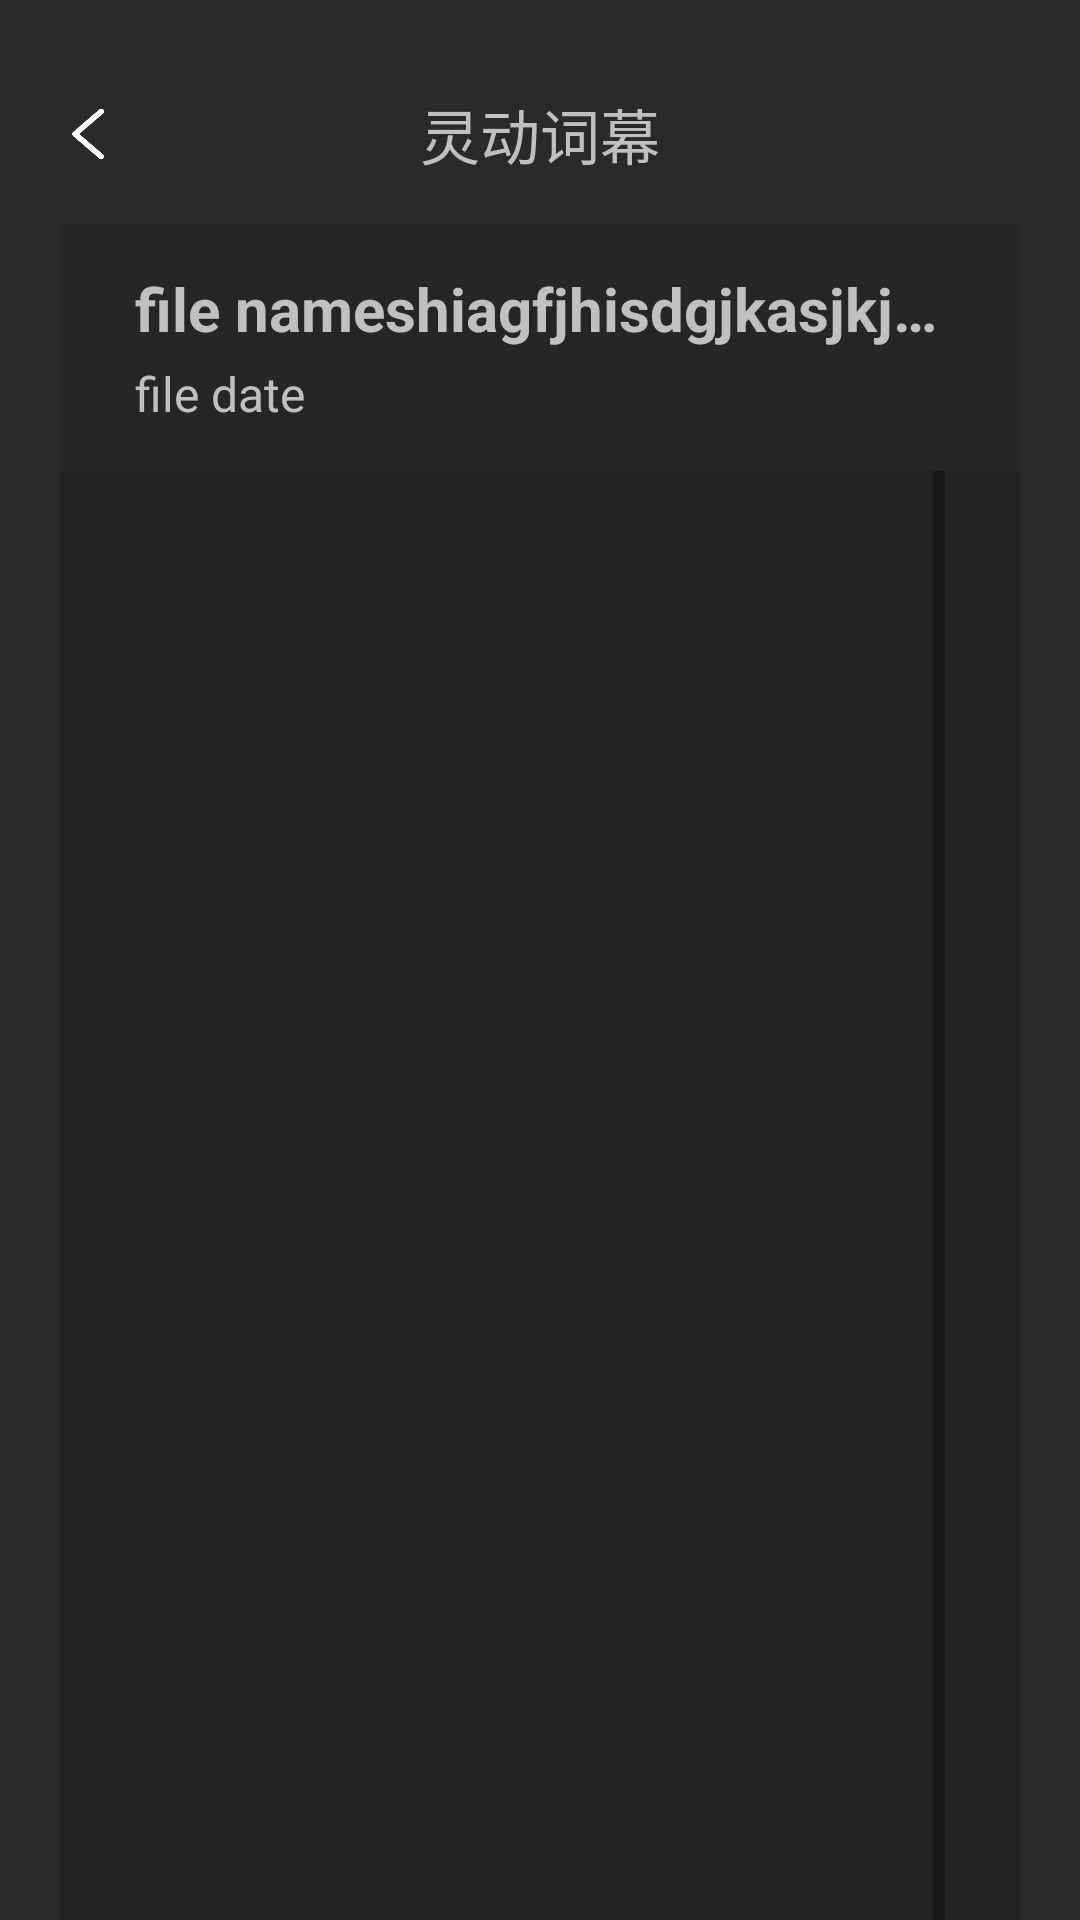

Locate icon controls on the screen. Image size 1080w x 1920h, boxes as (x1, y1, x2, y2).
left: (72, 109, 104, 160)
